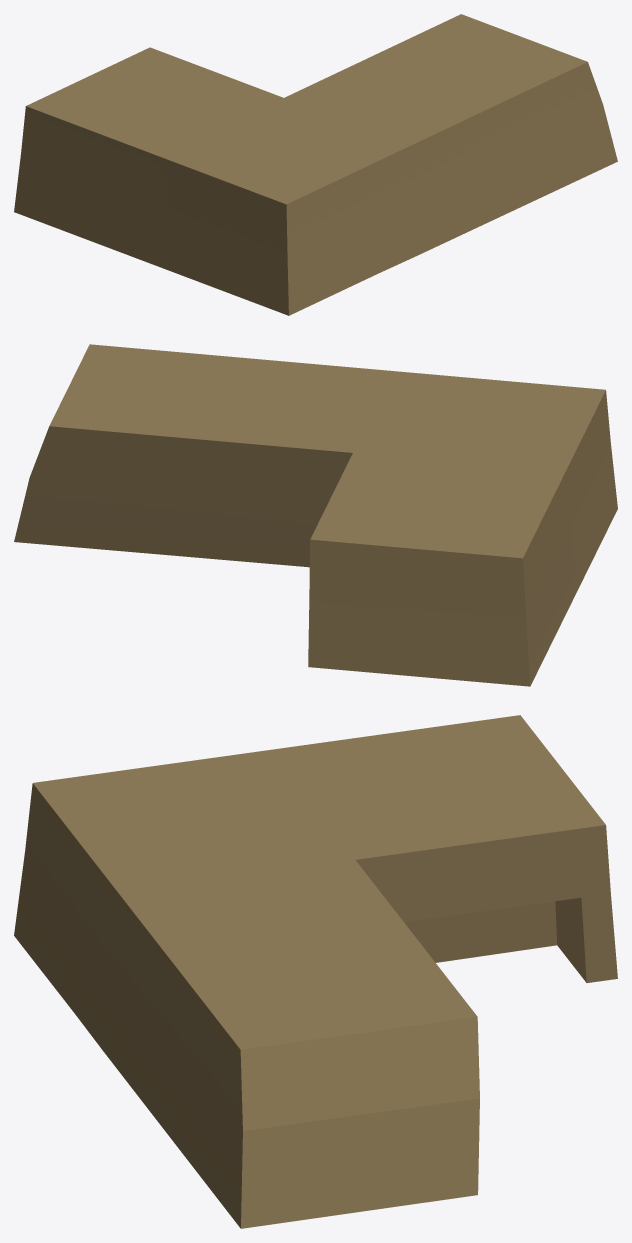
Rendered from puzzle_block_03.fbx.
The picture shows the model from 3 angles, top to bottom: view 1: azimuth 30°, elevation 25°; view 2: azimuth 150°, elevation 25°; view 3: azimuth 270°, elevation 25°; orthographic projection. The views are drawn at different scales.
Parts seen in each view (by area): view 1: puzzle_block_03; view 2: puzzle_block_03; view 3: puzzle_block_03.
Part boxes in pixels (x1,y1,x2,y2): puzzle_block_03: [14, 14, 617, 315]; puzzle_block_03: [14, 344, 617, 686]; puzzle_block_03: [14, 715, 617, 1228].
Size of the model in its own units: 150 by 30.38 by 106.
